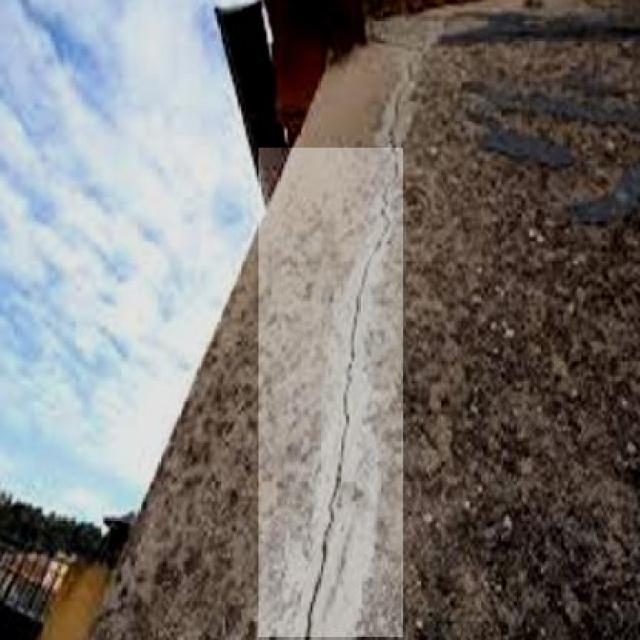Crack: (278, 149, 404, 640)
